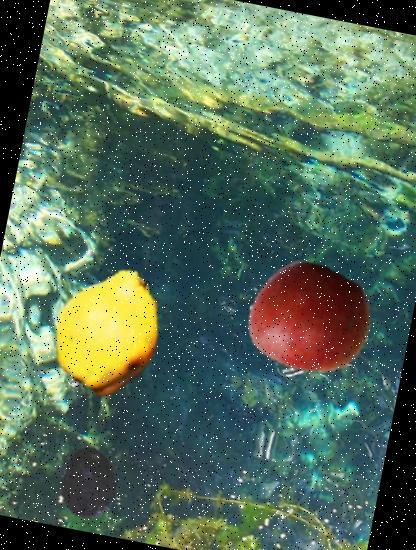Apple: (238, 246, 382, 390)
Avocado: (48, 442, 129, 523)
Quince: (31, 255, 186, 410)
